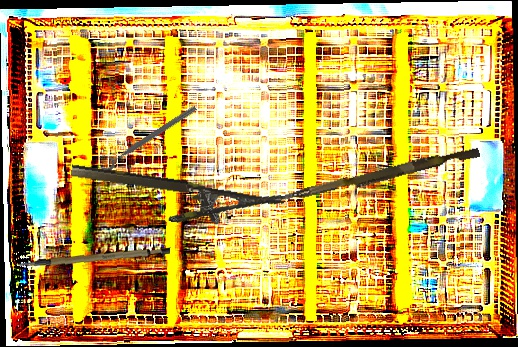Fixation Ring: (95, 97, 199, 175)
Needle Holder: (65, 162, 286, 239)
Pusher: (274, 142, 481, 211)
Scalpel Handle: (17, 237, 171, 275)
